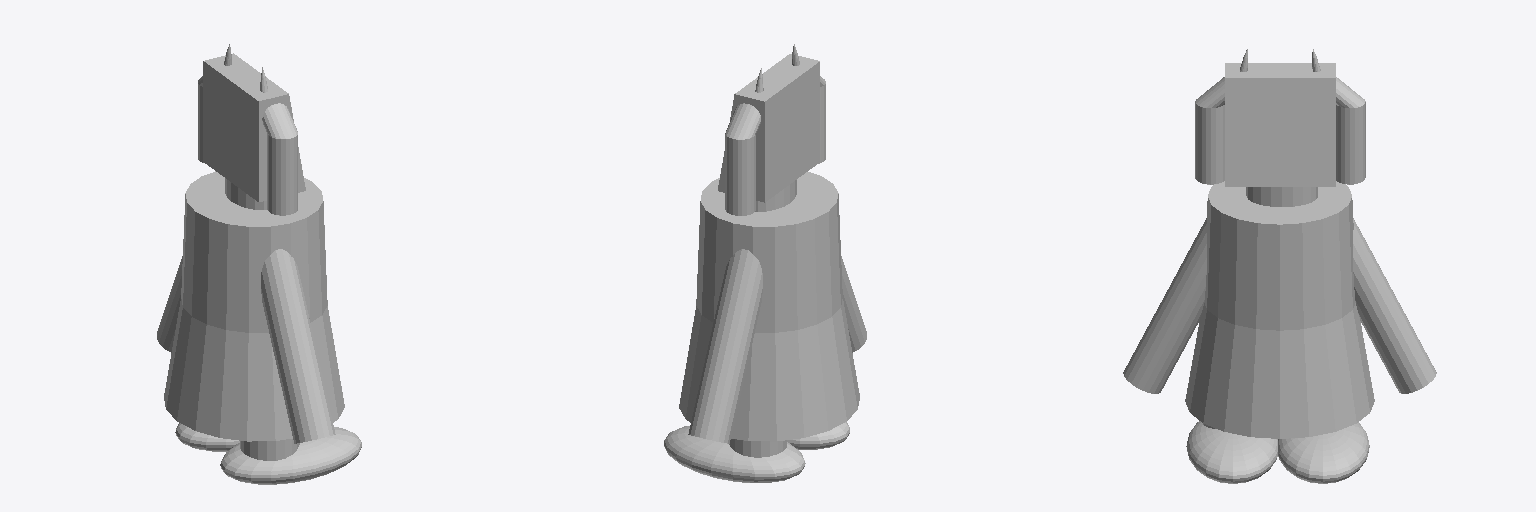
Rendered from toriel.obj.
3 renders of one model, left to right at view 1: azimuth 30°, elevation 25°; view 2: azimuth 150°, elevation 25°; view 3: azimuth 270°, elevation 25°, orthographic.
Visible parts, largest first — view 1: pCylinder4, Toriel_pCube1, pCylinder5, Toriel_pSphere3, Toriel_pCylinder2, pCylinder6, pCylinder7, Toriel_pSphere4, Toriel_pCylinder3; view 2: pCylinder4, Toriel_pCube1, pCylinder6, Toriel_pSphere4, pCylinder1, pCylinder5, Toriel_pSphere3, pCylinder8, Toriel_pCylinder3; view 3: pCylinder4, Toriel_pCube1, pCylinder5, pCylinder6, Toriel_pSphere3, Toriel_pSphere4, Toriel_pCylinder2, pCylinder1, Toriel_pCylinder3.
Boxes of the visible parts, <box> form: pCylinder4: <box>164,171,344,441</box>; Toriel_pCube1: <box>203,53,305,201</box>; pCylinder5: <box>261,249,335,443</box>; Toriel_pSphere3: <box>220,427,361,484</box>; Toriel_pCylinder2: <box>262,103,297,215</box>; pCylinder6: <box>157,256,182,352</box>; pCylinder7: <box>240,439,299,460</box>; Toriel_pSphere4: <box>175,423,239,451</box>; Toriel_pCylinder3: <box>225,178,266,209</box>; pCylinder4: <box>679,172,859,441</box>; Toriel_pCube1: <box>718,54,819,202</box>; pCylinder6: <box>688,249,762,443</box>; Toriel_pSphere4: <box>664,426,805,482</box>; pCylinder1: <box>725,103,760,215</box>; pCylinder5: <box>841,256,866,352</box>; Toriel_pSphere3: <box>787,422,849,449</box>; pCylinder8: <box>729,439,786,457</box>; Toriel_pCylinder3: <box>755,180,796,211</box>; pCylinder4: <box>1185,181,1374,438</box>; Toriel_pCube1: <box>1225,63,1335,186</box>; pCylinder5: <box>1123,218,1206,393</box>; pCylinder6: <box>1353,218,1436,393</box>; Toriel_pSphere3: <box>1186,421,1277,483</box>; Toriel_pSphere4: <box>1278,422,1369,483</box>; Toriel_pCylinder2: <box>1195,77,1224,184</box>; pCylinder1: <box>1336,77,1365,184</box>; Toriel_pCylinder3: <box>1246,187,1317,206</box>.
Bounding box in the file's own units: 1.02 × 2.5 × 1.75.